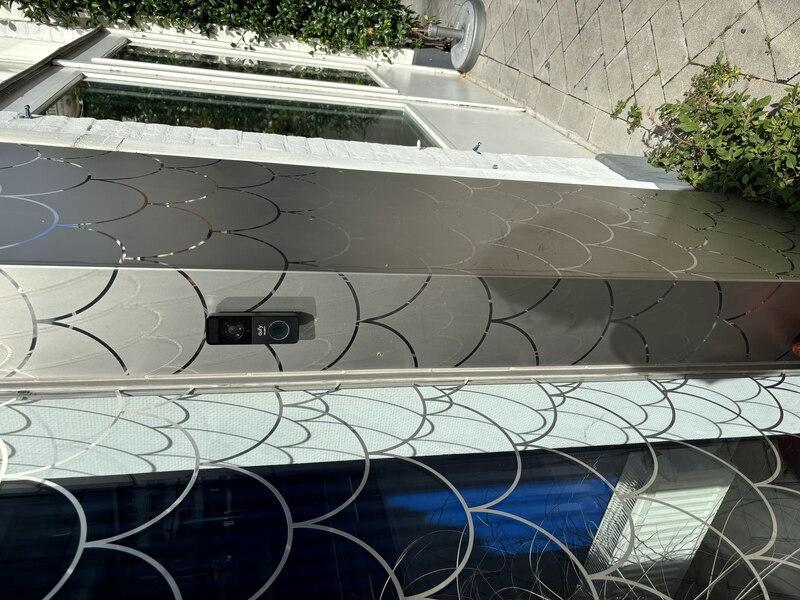doorbell: (249, 197, 293, 309)
